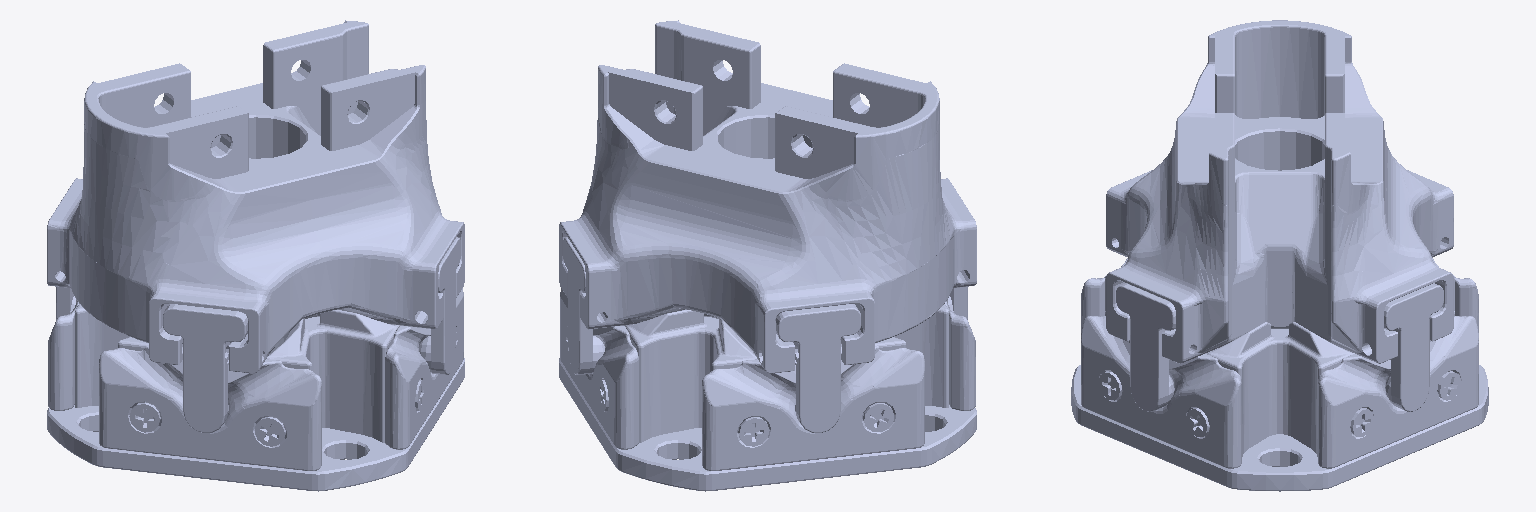
The robot description file, URDF, robot "wuji-hand-description-docking":
<?xml version="1.0" encoding="utf-8"?>
<robot name="wuji-hand-description-docking">
  <link name="hand_docking_link">
    <inertial>
      <origin xyz="0.0 0.000613 0.008094" rpy="0 0 0" />
      <mass value="0.051956" />
      <inertia ixx="1.814727e-05" ixy="-2.035277e-10" ixz="8.570371e-11" iyy="1.736668e-05" iyz="-4.906137e-07" izz="1.920788e-05" />
    </inertial>
    <visual>
      <origin xyz="0 0 0" rpy="0 0 0" />
      <geometry>
        <mesh filename="package://wuji_description/robots/docking/meshes/hand_docking_link.STL" />
      </geometry>
      <material name="">
        <color rgba="0.792156862745098 0.819607843137255 0.933333333333333 1" />
      </material>
    </visual>
    <collision>
      <origin xyz="0 0 0" rpy="0 0 0" />
      <geometry>
        <mesh filename="package://wuji_description/robots/docking/meshes/hand_docking_link.STL" />
      </geometry>
    </collision>
  </link>
</robot>

--- What the picture shows (computed from the rendered views, not written in the file) ---
The picture shows the robot from 3 angles, left to right: view 1: azimuth 30°, elevation 25°; view 2: azimuth 150°, elevation 25°; view 3: azimuth 270°, elevation 25°; orthographic projection.
Robot: wuji-hand-description-docking — 1 links, 0 joints (none); root link hand_docking_link; default pose: all joints at 0.
Links seen in each view (by area): view 1: hand_docking_link; view 2: hand_docking_link; view 3: hand_docking_link.
Boxes of the visible links, box(x1,y1,x2,y2) form: hand_docking_link: box(47, 20, 464, 491); hand_docking_link: box(559, 20, 976, 491); hand_docking_link: box(1071, 20, 1488, 491).
Size in the robot's own frame: 0.061 by 0.061 by 0.05 metres.
Meshes: 1 distinct files referenced, 1 mesh visuals loaded (1 binary STL).
